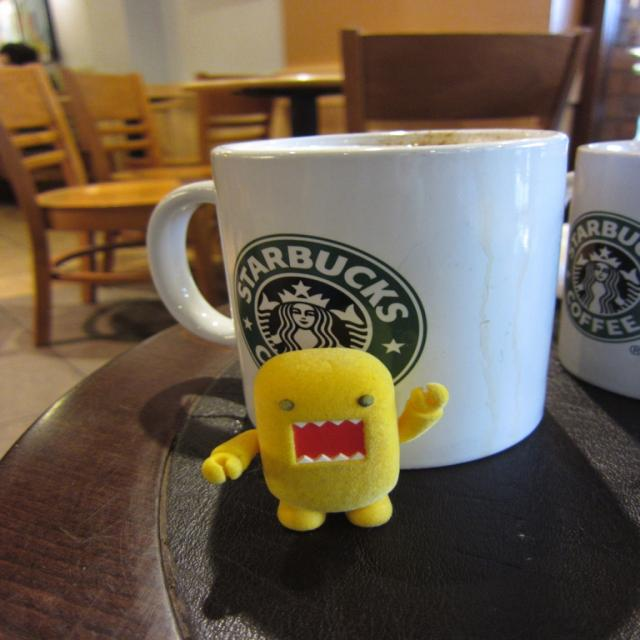starbucks: (234, 235, 426, 385), (564, 213, 640, 345)
